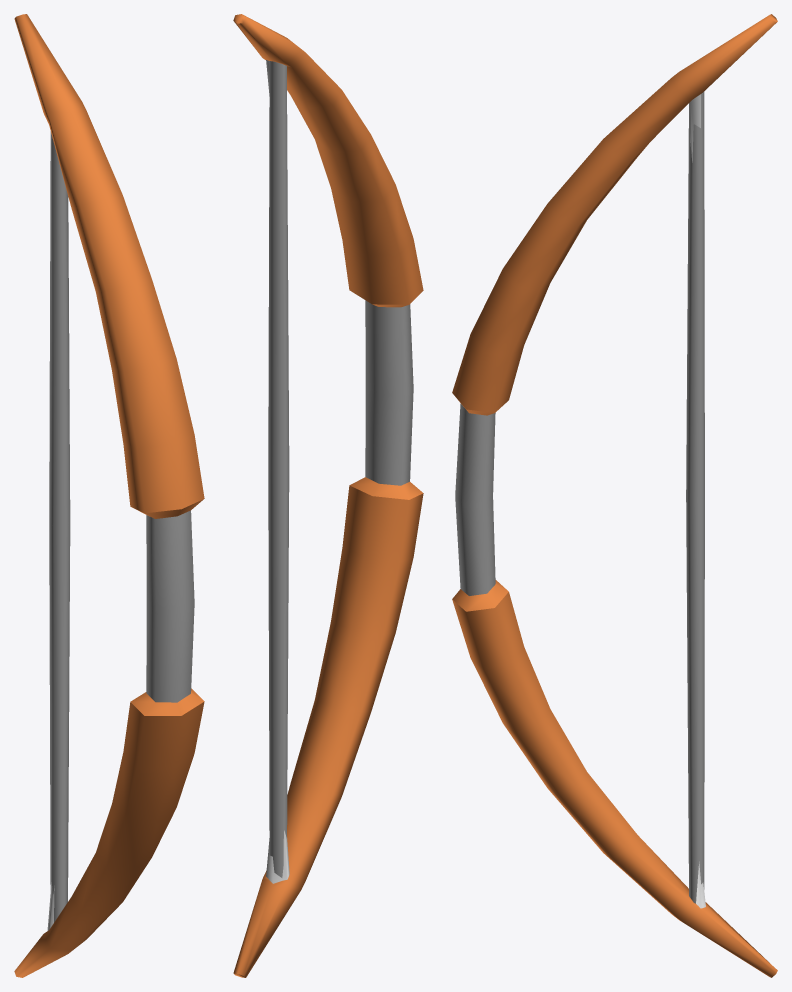
Rendered from bow.fbx.
3 renders of one model, left to right at view 1: azimuth 30°, elevation 25°; view 2: azimuth 150°, elevation 25°; view 3: azimuth 270°, elevation 25°, orthographic.
Visible parts, largest first — view 1: bow; view 2: bow, cell.001; view 3: bow.
Part boxes in pixels (left/top/right/bottom): bow: left=14, top=14, right=204, bottom=977; bow: left=233, top=14, right=423, bottom=977; cell.001: left=266, top=830, right=289, bottom=883; bow: left=452, top=14, right=777, bottom=977.
Bounding box in the file's own units: 0.0937 × 1.44 × 0.4421.
